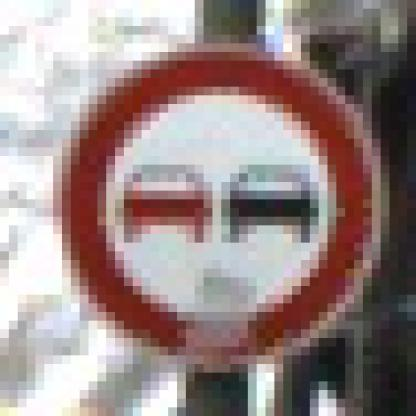No Overtaking: (45, 44, 373, 374)
